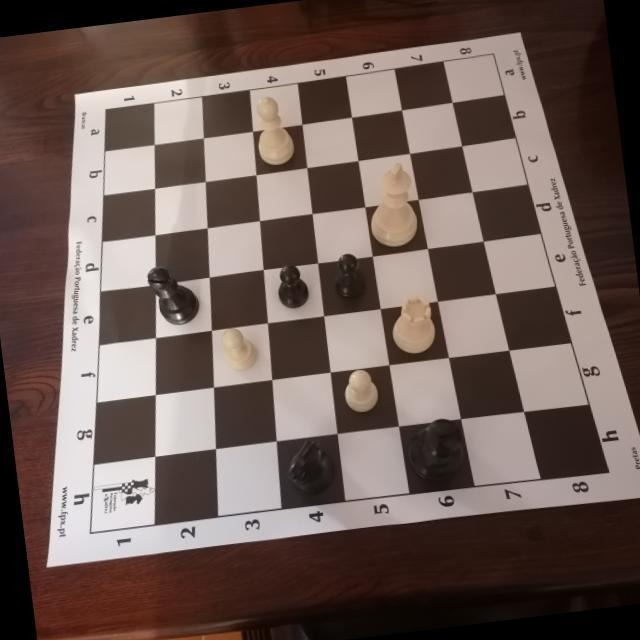black-bishop: (145, 259, 203, 329)
black-king: (403, 416, 469, 488)
black-knight: (281, 435, 339, 499)
black-pawn: (328, 250, 370, 302), (272, 262, 311, 310)
white-bishop: (250, 91, 297, 168)
white-king: (362, 160, 422, 251)
white-pawn: (218, 322, 262, 374), (340, 366, 381, 414)
white-rook: (387, 292, 439, 356)
